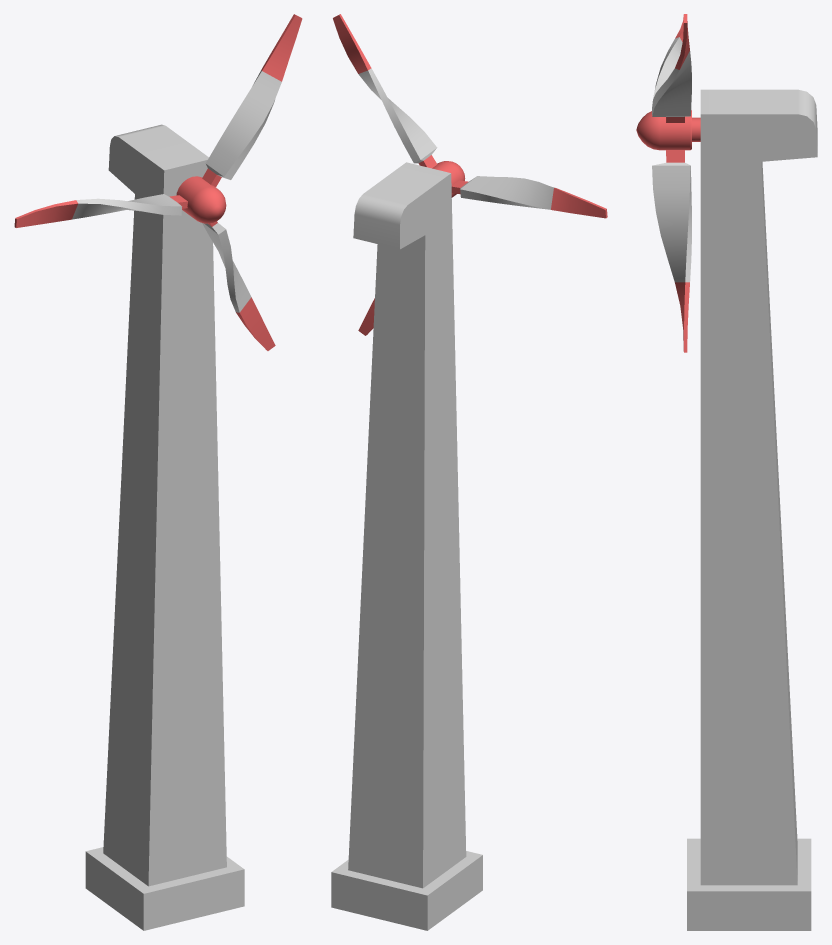
The model's file is wind_turbine.fbx.
The picture shows the model from 3 angles, left to right: view 1: azimuth 30°, elevation 25°; view 2: azimuth 150°, elevation 25°; view 3: azimuth 270°, elevation 25°; orthographic projection. The views are drawn at different scales.
Visible parts, largest first — view 1: wind_turbine, turbine; view 2: wind_turbine, turbine; view 3: wind_turbine, turbine.
Boxes of the visible parts, box(x1,y1,x2,y2) form: wind_turbine: box(85, 124, 244, 930); turbine: box(14, 14, 302, 350); wind_turbine: box(331, 162, 482, 930); turbine: box(333, 14, 607, 335); wind_turbine: box(687, 89, 817, 930); turbine: box(636, 14, 700, 352).
Size of the model in its own units: 853 by 2505 by 437.
